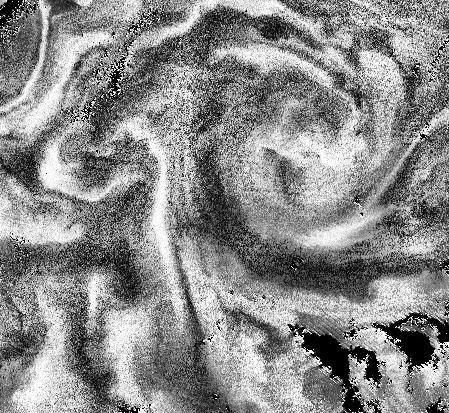AE: (158, 16, 406, 268)
